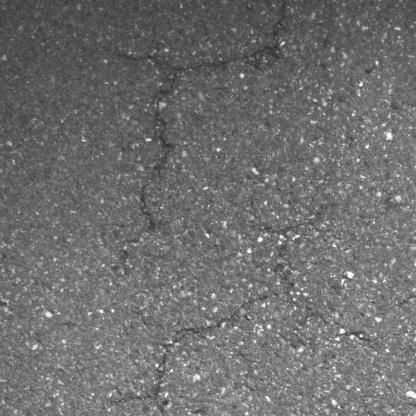Cracks: (112, 0, 291, 248), (151, 218, 316, 402)
